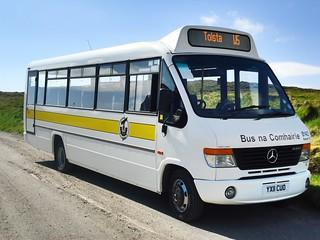bus: (21, 25, 313, 226)
